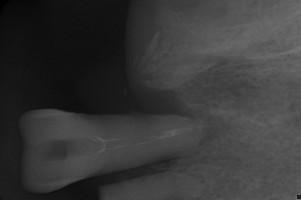Furcation Involvement: (201, 114, 230, 145)
